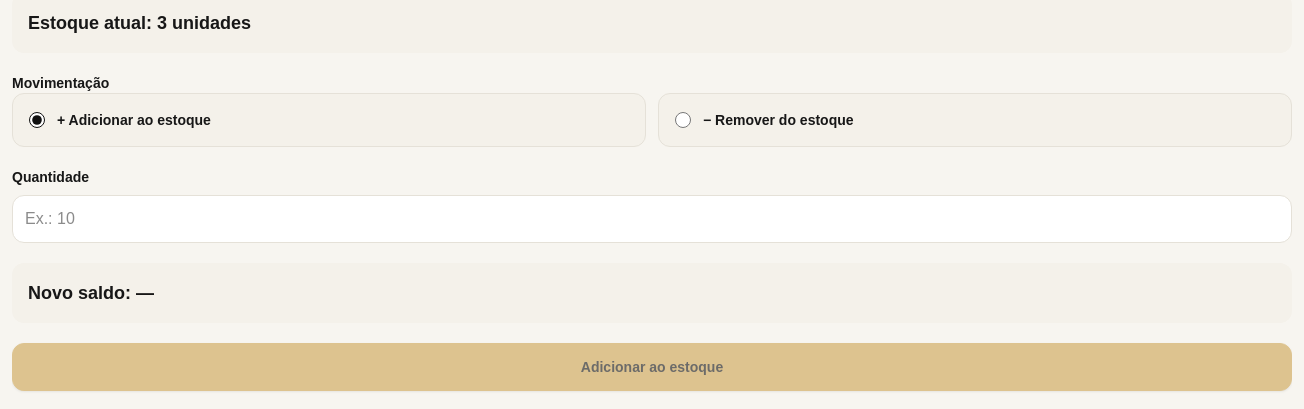
Test: StockAdjustmentForm › previews add 2 from three units
This screenshot has width=1304, height=409.
Type "2" into the field labelled "Quantidade" at coordinates (652, 219), box [12,195,1292,243]
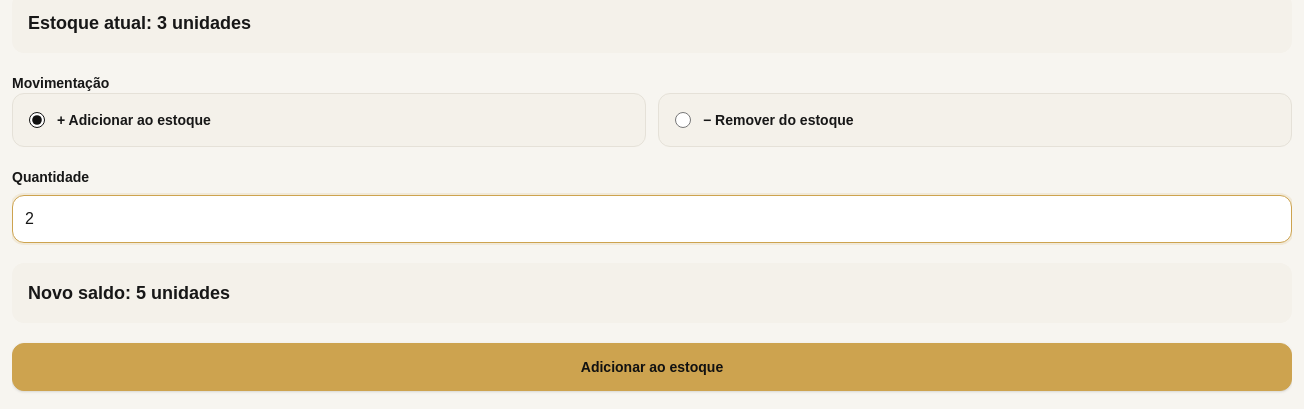
Expected: the message "Novo saldo" reads "Novo saldo: 5 unidades", [12,263,1292,323]
Expected: the button "Adicionar ao estoque" is enabled, [12,343,1292,391]
